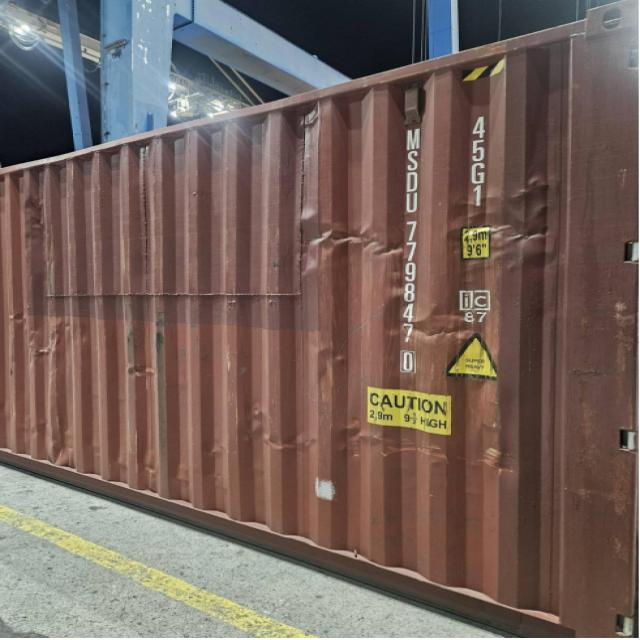dent: (280, 156, 584, 498)
